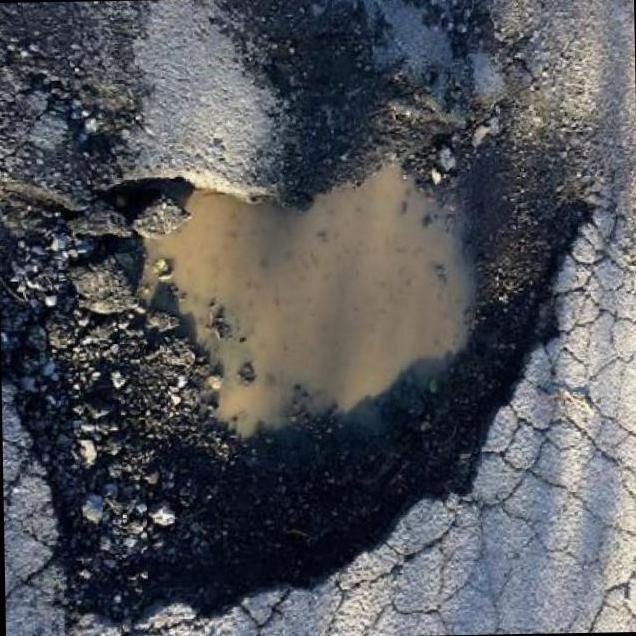pothole: (0, 75, 609, 635)
